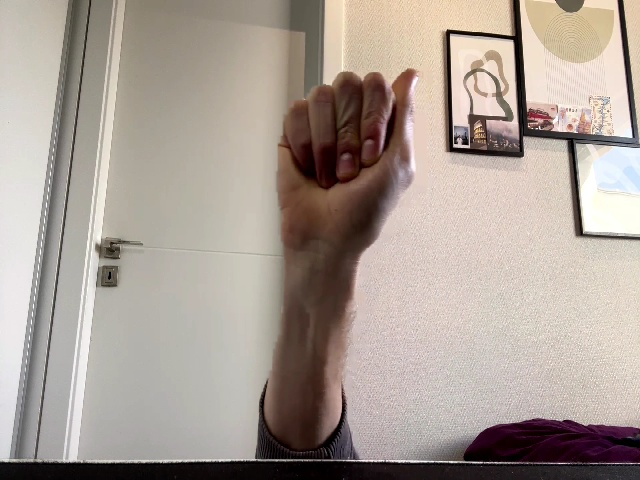A: (277, 69, 419, 269)
